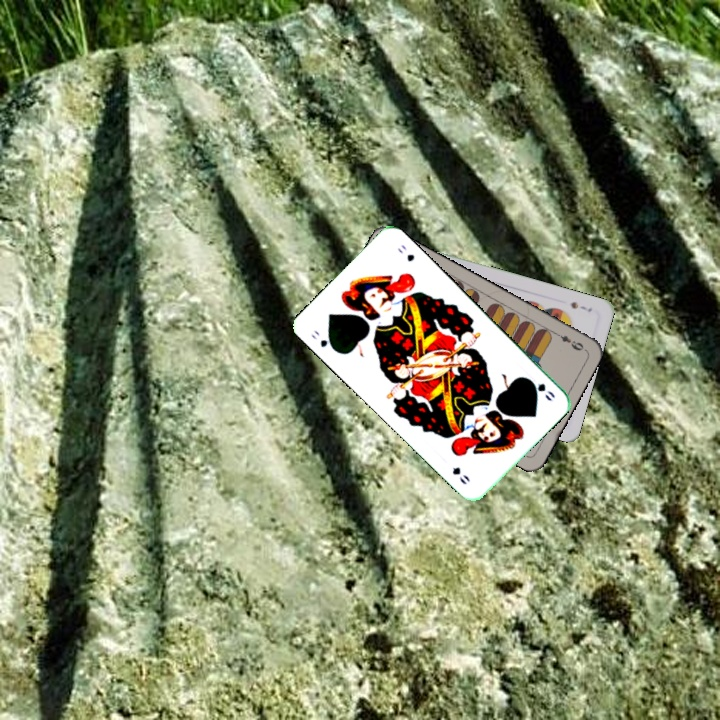E9: (550, 328, 586, 353)
GO: (522, 373, 558, 404), (307, 326, 340, 354)
S7: (567, 297, 594, 314)
